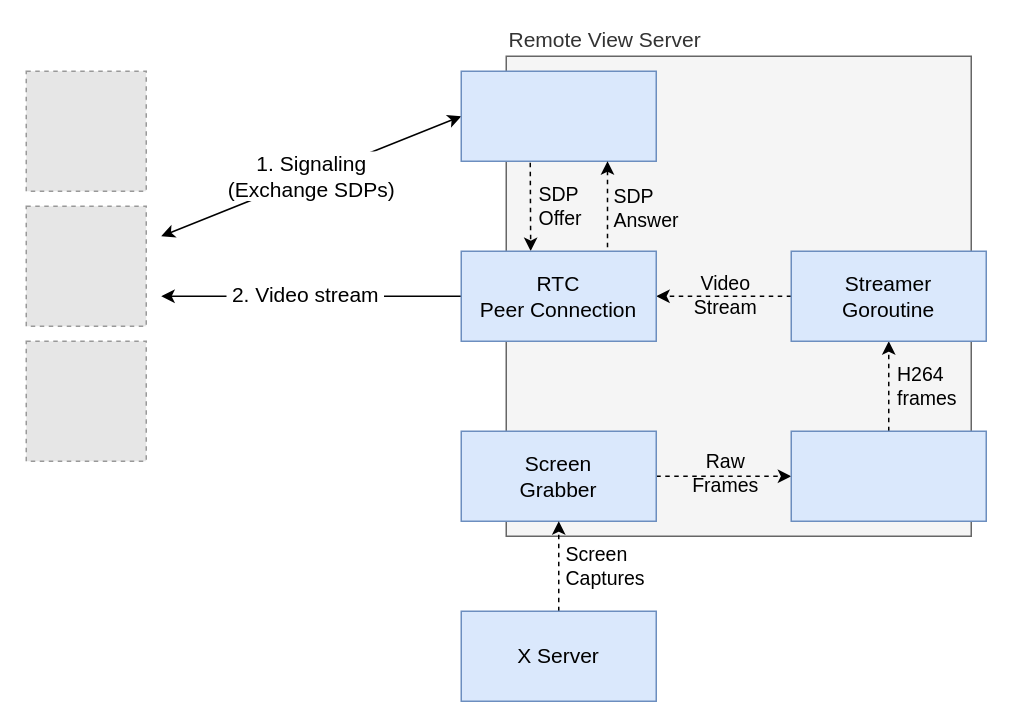
Image size: 1013x728. Some labels were removed from this diagram. Grey dashed boxes stand in for pictures. The centre of each missing label's shape, as x and y in pixels:
H264 Encoder: point (888, 475)
POST /session: point (558, 115)
